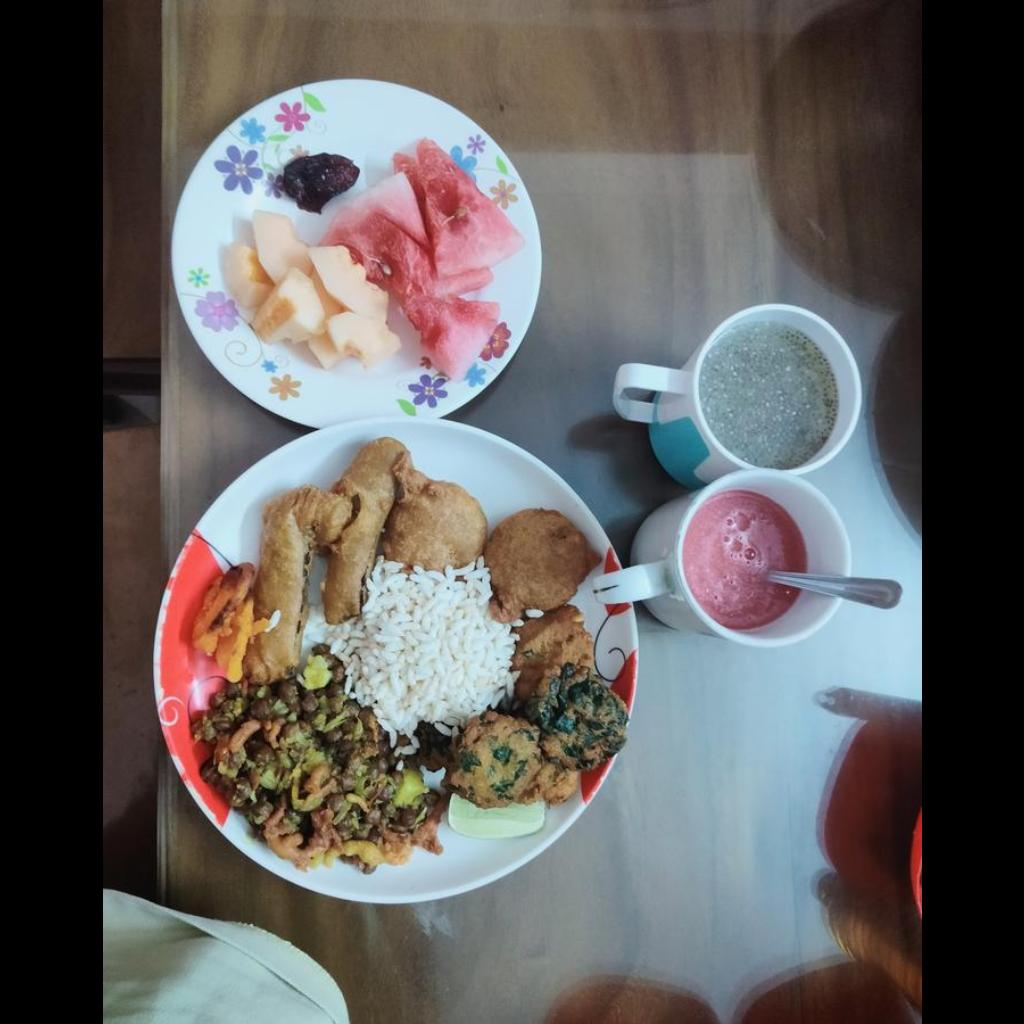beguni: (256, 438, 411, 675)
chola: (193, 652, 442, 873)
chop-alu: (396, 478, 591, 615)
dates: (270, 152, 358, 213)
juice: (701, 320, 829, 464), (681, 490, 806, 630)
lemon: (447, 794, 543, 837)
peyaju: (454, 611, 624, 809)
puffed-rice: (308, 559, 516, 744)
watermelon: (317, 146, 532, 380), (223, 208, 397, 368)
